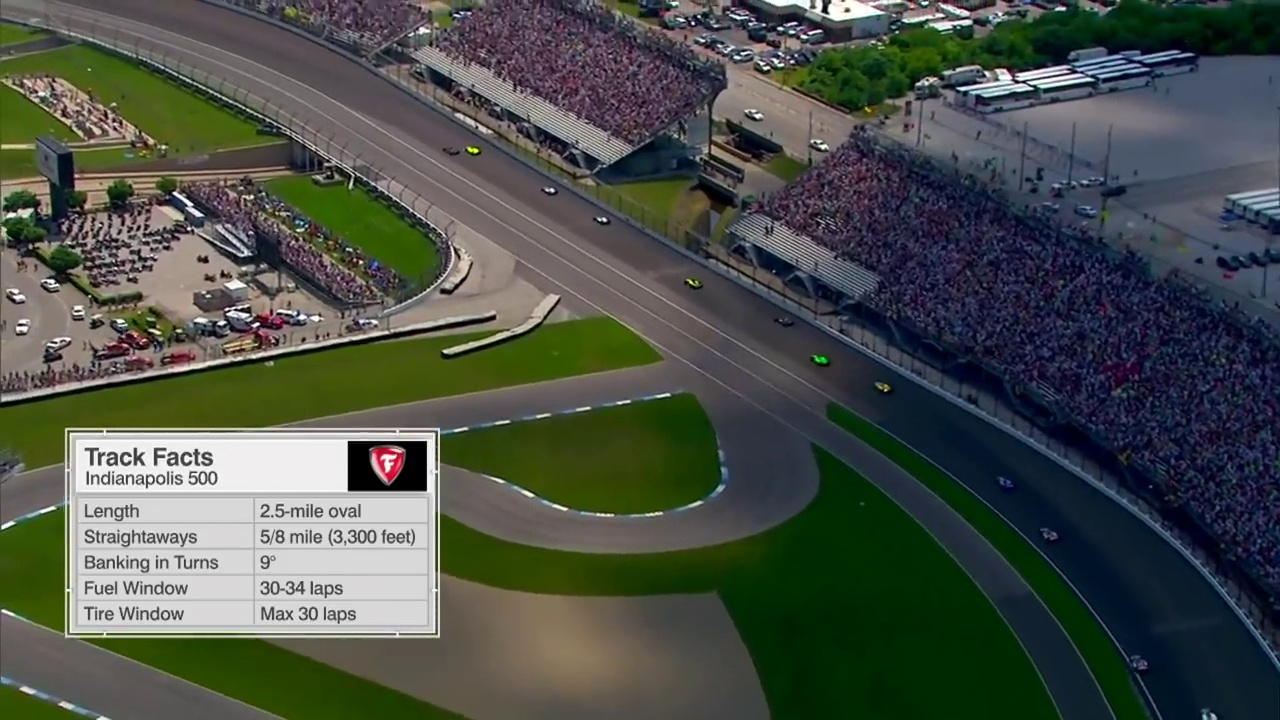car: (987, 466, 1018, 492), (870, 370, 901, 396), (535, 171, 566, 197), (434, 133, 465, 159), (461, 135, 492, 161), (806, 347, 838, 372), (677, 266, 709, 291), (1126, 653, 1157, 678), (1031, 516, 1062, 541), (775, 304, 806, 329), (1193, 695, 1224, 720), (583, 207, 614, 231)
